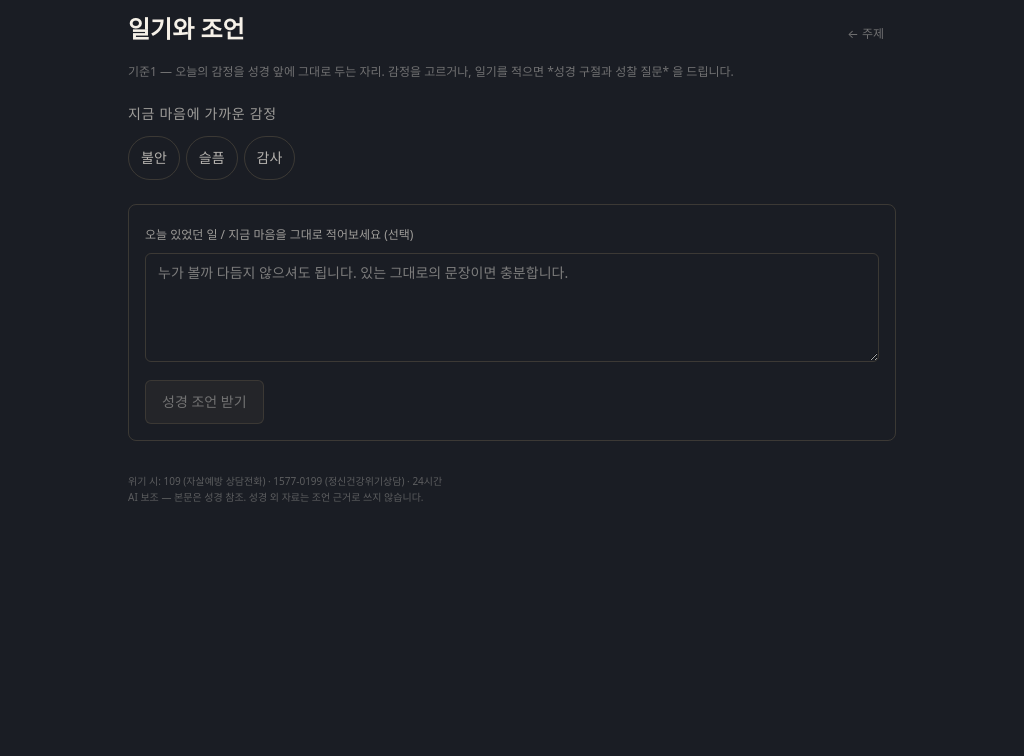
Test: /topics/journal — AI 라벨링 (4-layer 안전선 3번) › 조언이 화면에 뜬 상태에서도 AI 라벨이 함께 보인다
The width and height of the screenshot is (1024, 756).
Click the button "불안" at x=154, y=158, box [128,136,180,180]
(page scrolled)
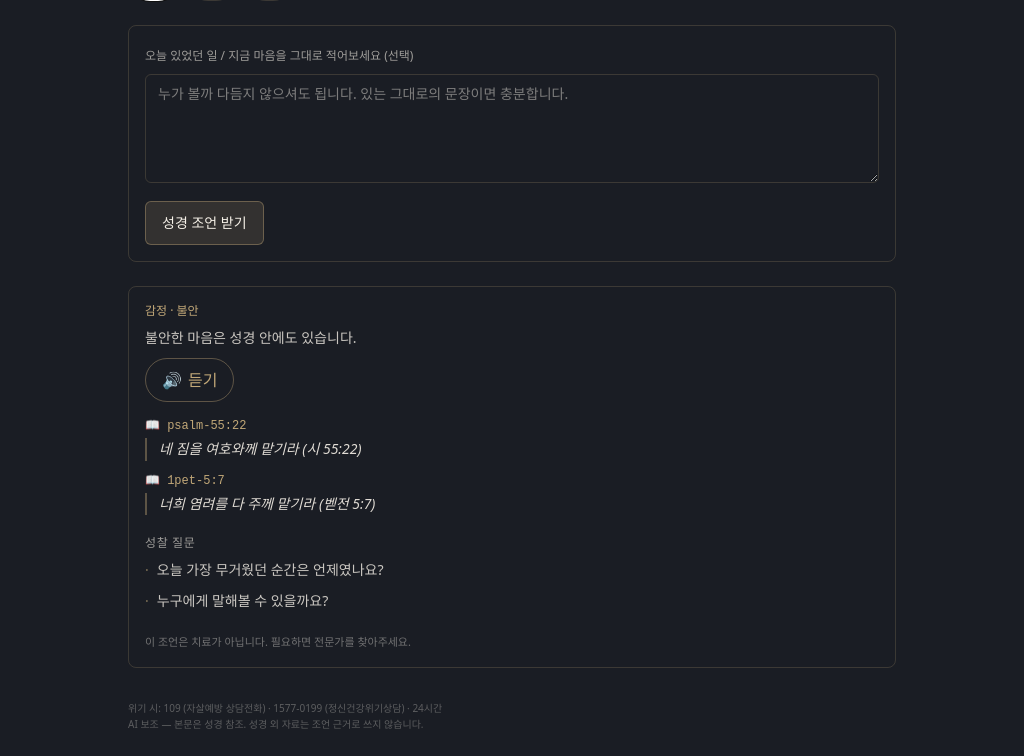
Expected: the text "AI 보조" is shown, [128,717,424,731]
Now the text "불안한 마음은 성경 안에도 있습니다." is shown, box [145,328,356,347]
